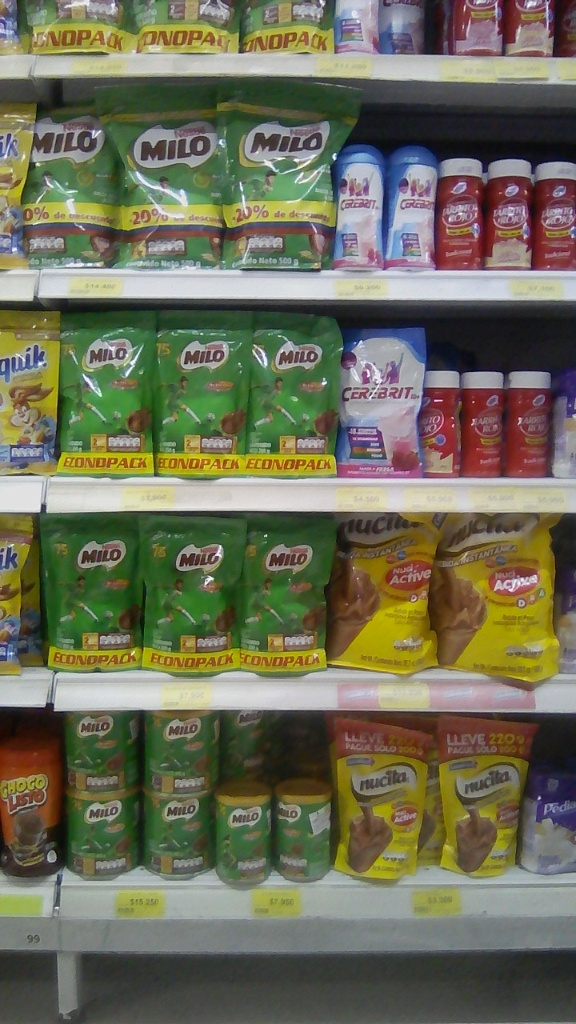COL0170203LAT20000: (272, 777, 337, 885)
COL0170203LAT40000: (141, 790, 215, 882)
COL0170303DYP20000: (2, 305, 62, 474)
